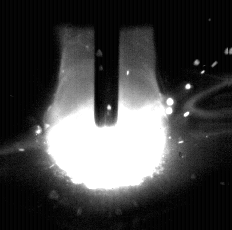arame: (95, 0, 120, 127)
poca: (44, 0, 166, 230)
